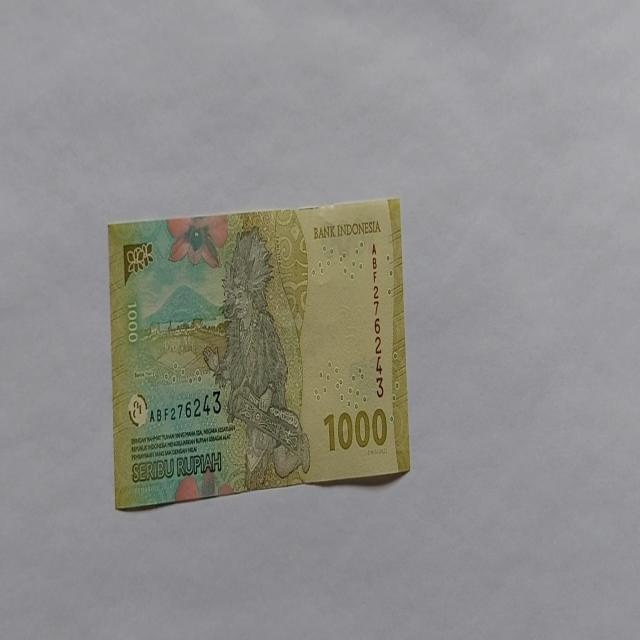seribu rupiah kertas: (107, 194, 410, 510), (203, 226, 310, 489)
